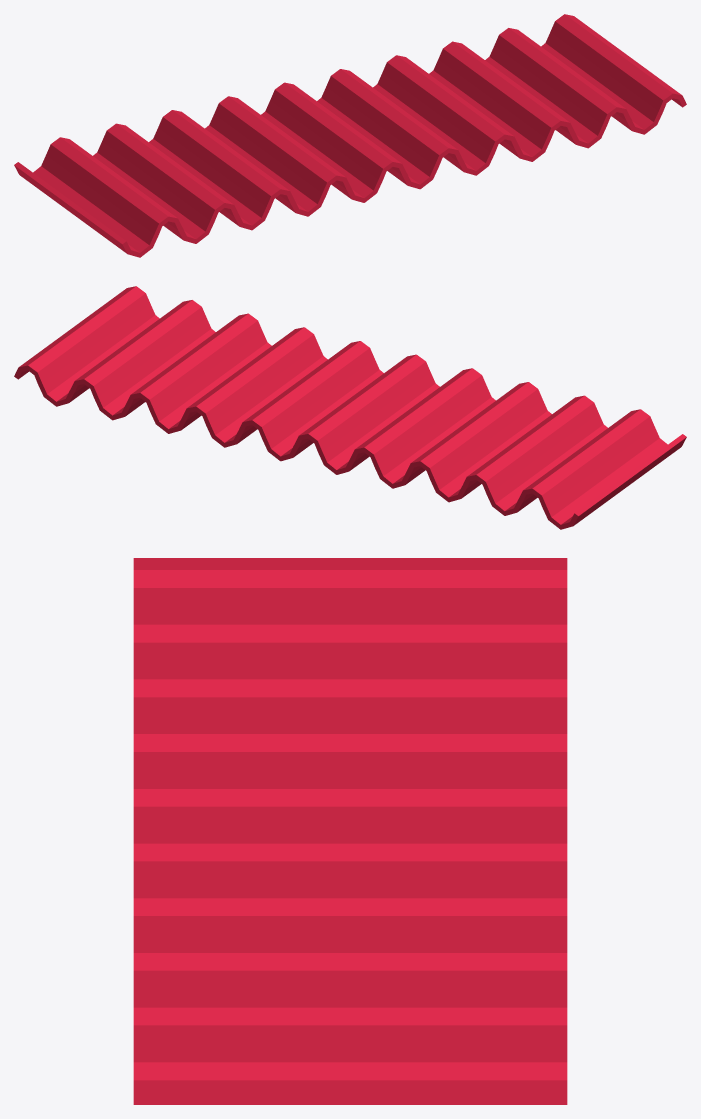
Rendered from крынкая-волнистая-черепица.fbx.
3 renders of one model, top to bottom at view 1: azimuth 30°, elevation 25°; view 2: azimuth 150°, elevation 25°; view 3: azimuth 270°, elevation 25°, orthographic. The views are drawn at different scales.
Parts seen in each view (by area): view 1: Черепица волнистая; view 2: Черепица волнистая; view 3: Черепица волнистая.
Boxes of the visible parts, x1=… form: Черепица волнистая: x1=14, y1=14, x2=686, y2=257; Черепица волнистая: x1=14, y1=286, x2=686, y2=529; Черепица волнистая: x1=133, y1=558, x2=567, y2=1104.
Bounding box in the file's own units: 12.03 × 0.7003 × 4.
